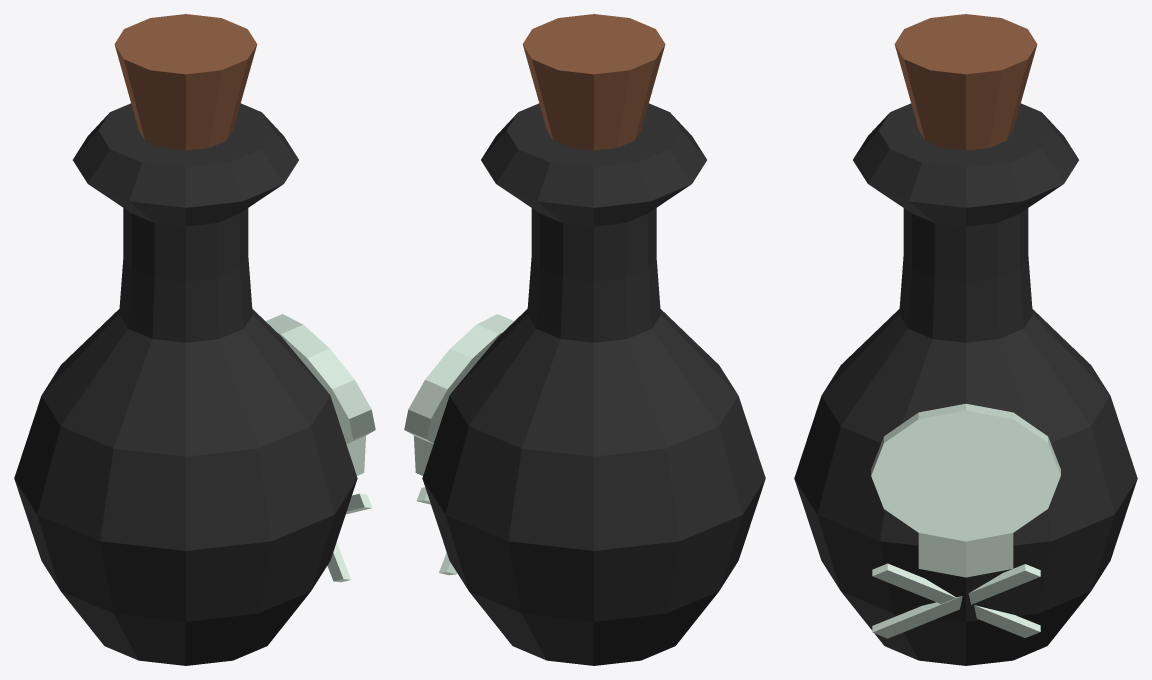
The model's file is Veneno.fbx.
3 views of the same model, side by side, from view 1: azimuth 30°, elevation 25°; view 2: azimuth 150°, elevation 25°; view 3: azimuth 270°, elevation 25° (orthographic).
Parts seen in each view (by area): view 1: Cube; view 2: Cube; view 3: Cube.
Part boxes in pixels (x1=…): Cube: x1=14, y1=14, x2=375, y2=665; Cube: x1=404, y1=14, x2=765, y2=665; Cube: x1=794, y1=14, x2=1137, y2=665.
Size of the model in its own units: 246 by 444 by 238.
